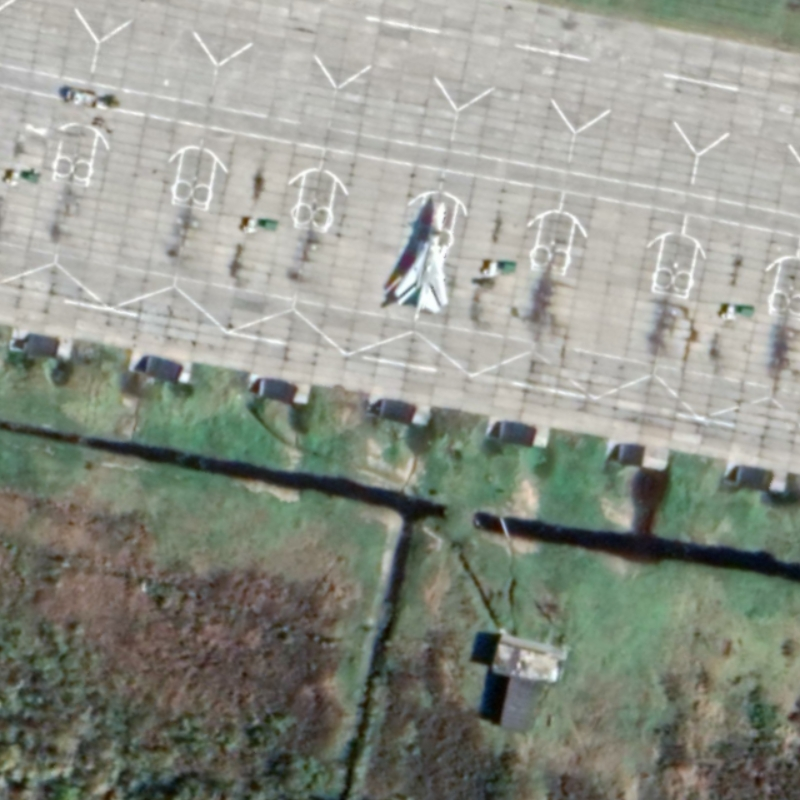A20: (392, 200, 450, 316)
